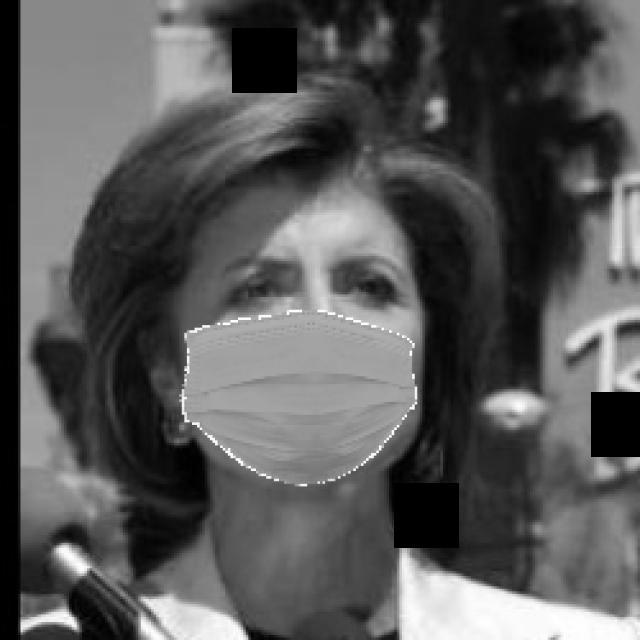surgical: (174, 222, 421, 488)
